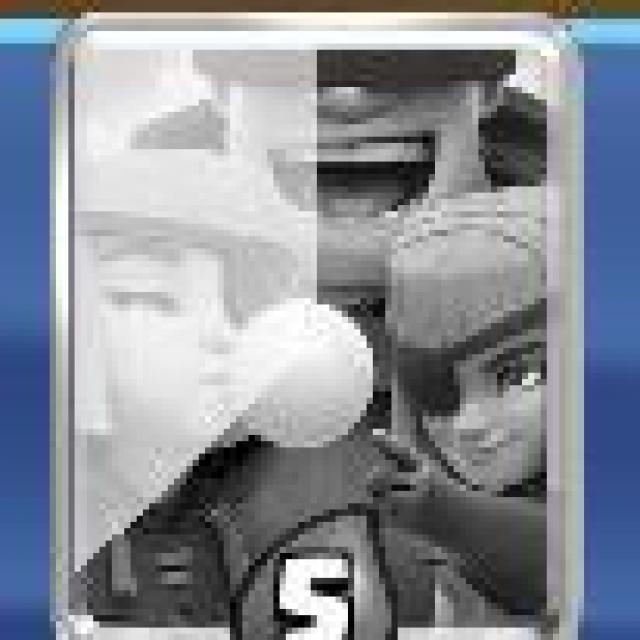Rascals: (54, 14, 575, 640)
